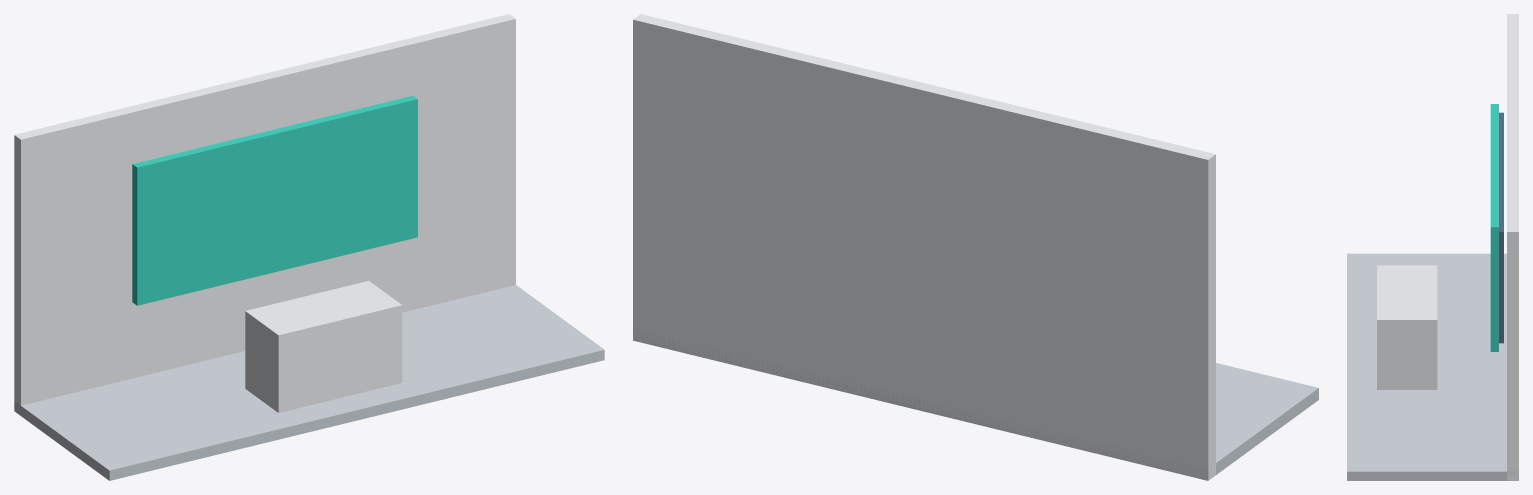
3 renders of one model, left to right at view 1: azimuth 30°, elevation 25°; view 2: azimuth 150°, elevation 25°; view 3: azimuth 270°, elevation 25°, orthographic. The views are drawn at different scales.
Visible parts, largest first — view 1: Exhibition Booth Concept; view 2: Exhibition Booth Concept; view 3: Exhibition Booth Concept.
Boxes of the visible parts, x1,y1,x2,y2 form: Exhibition Booth Concept: [14, 14, 604, 480]; Exhibition Booth Concept: [633, 14, 1318, 480]; Exhibition Booth Concept: [1347, 14, 1518, 480].
Bounding box in the file's own units: 6 × 3.2 × 2.
